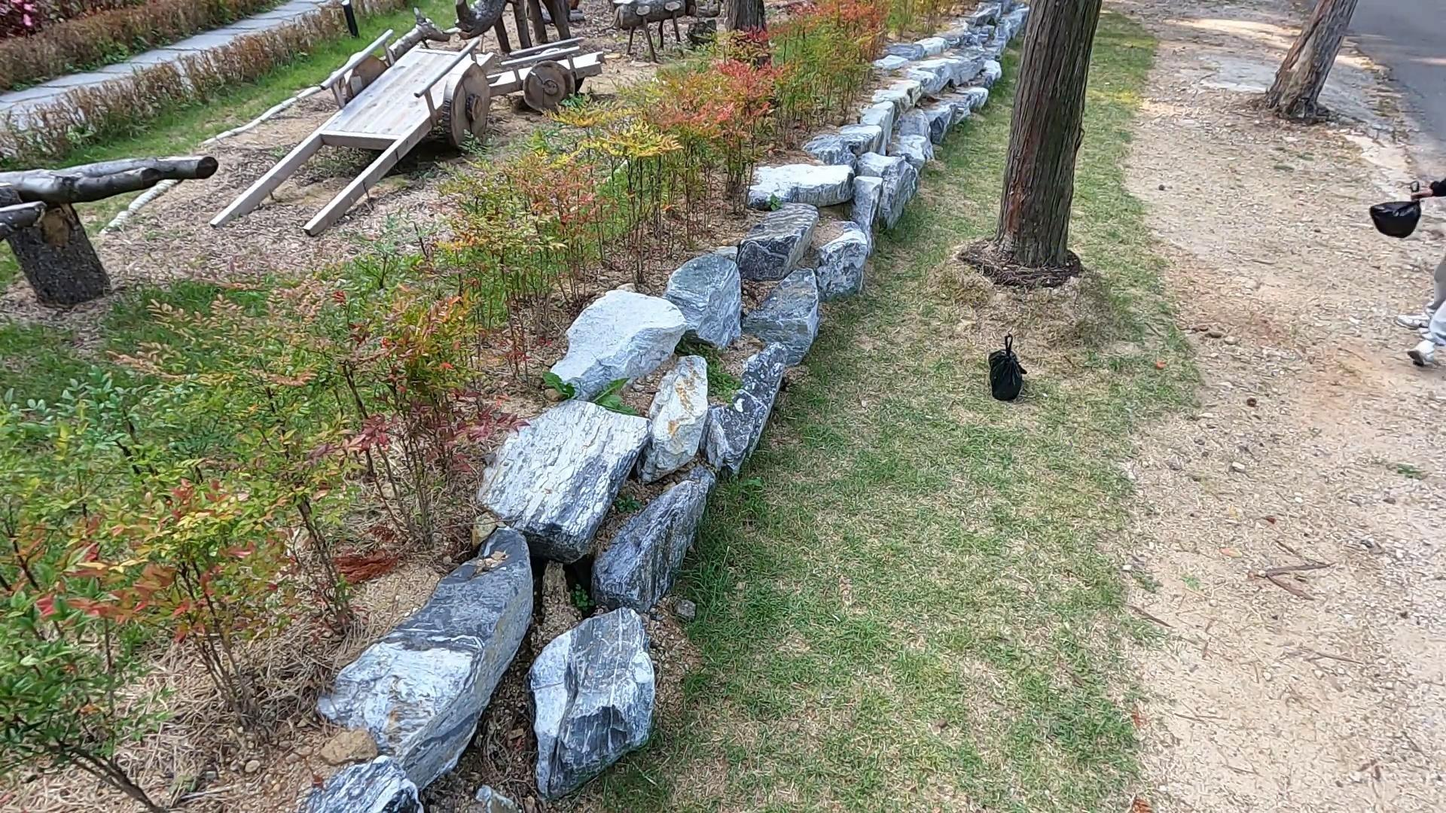trash: (984, 330, 1033, 403), (1367, 182, 1430, 238)
